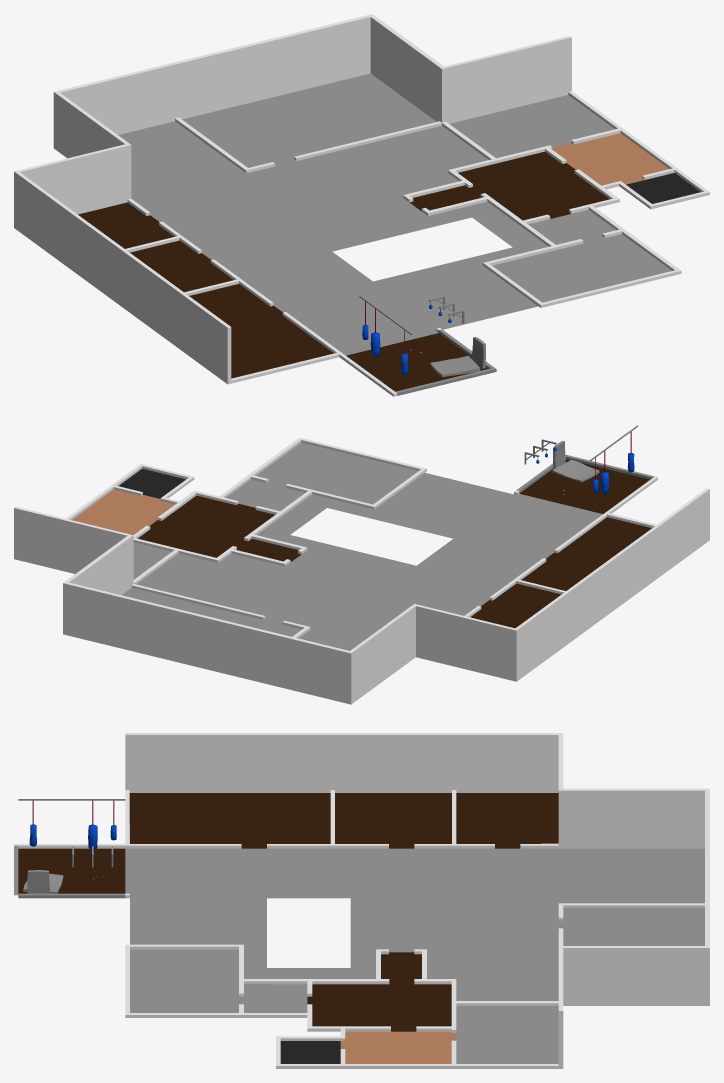
File: Salle_012.FBX
3 views of the same model, one above another, from view 1: azimuth 30°, elevation 25°; view 2: azimuth 150°, elevation 25°; view 3: azimuth 270°, elevation 25° (orthographic). The views are drawn at different scales.
Visible parts, largest first — view 1: Piece_012, Matelas_005, Sacs_Boxe; view 2: Piece_012, Matelas_005, Sacs_Boxe; view 3: Piece_012, Sacs_Boxe, Matelas_004.
Boxes of the visible parts, x1,y1,x2,y2 form: Piece_012: [14, 14, 709, 396]; Matelas_005: [430, 355, 480, 376]; Sacs_Boxe: [359, 295, 412, 374]; Piece_012: [14, 437, 709, 704]; Matelas_005: [552, 459, 599, 482]; Sacs_Boxe: [590, 425, 638, 493]; Piece_012: [14, 733, 709, 1068]; Sacs_Boxe: [18, 799, 125, 849]; Matelas_004: [27, 870, 49, 893].
Bounding box in the file's own units: 3085 × 306 × 3266.
